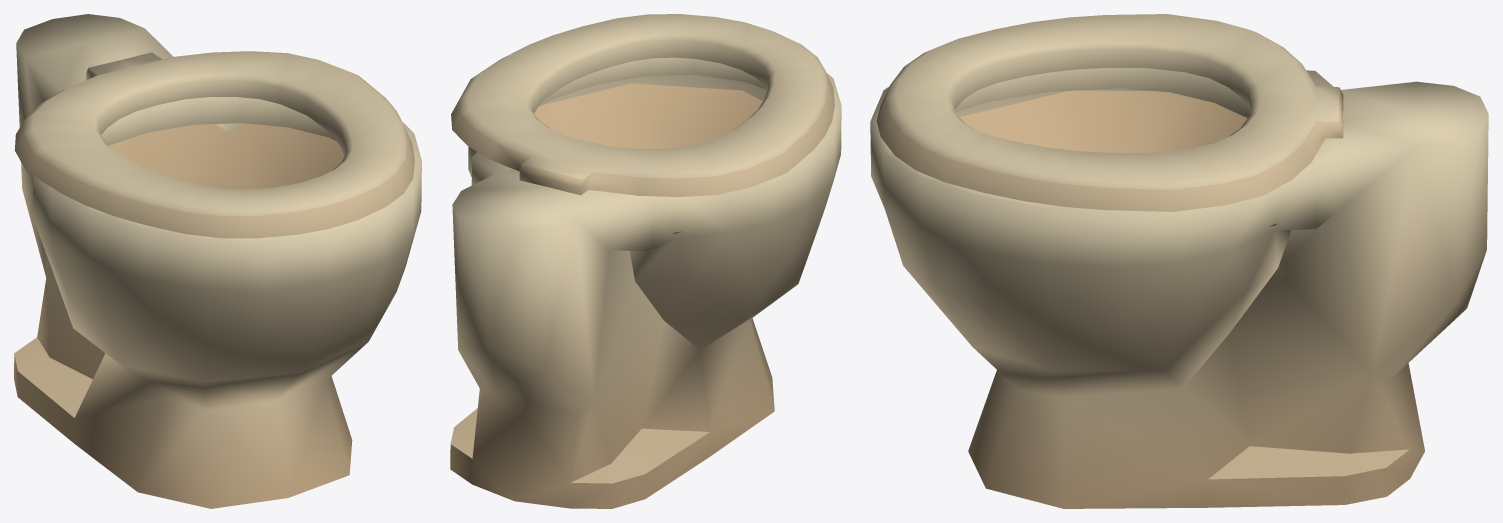
File: toilet.fbx
3 renders of one model, left to right at view 1: azimuth 30°, elevation 25°; view 2: azimuth 150°, elevation 25°; view 3: azimuth 270°, elevation 25°, orthographic. The views are drawn at different scales.
Parts seen in each view (by area): view 1: toilet; view 2: toilet; view 3: toilet.
Boxes of the visible parts, bbox=[...] form: toilet: bbox=[14, 14, 421, 508]; toilet: bbox=[450, 14, 841, 508]; toilet: bbox=[870, 14, 1488, 508].
Bounding box in the file's own units: 0.6454 × 0.5908 × 0.9278.
